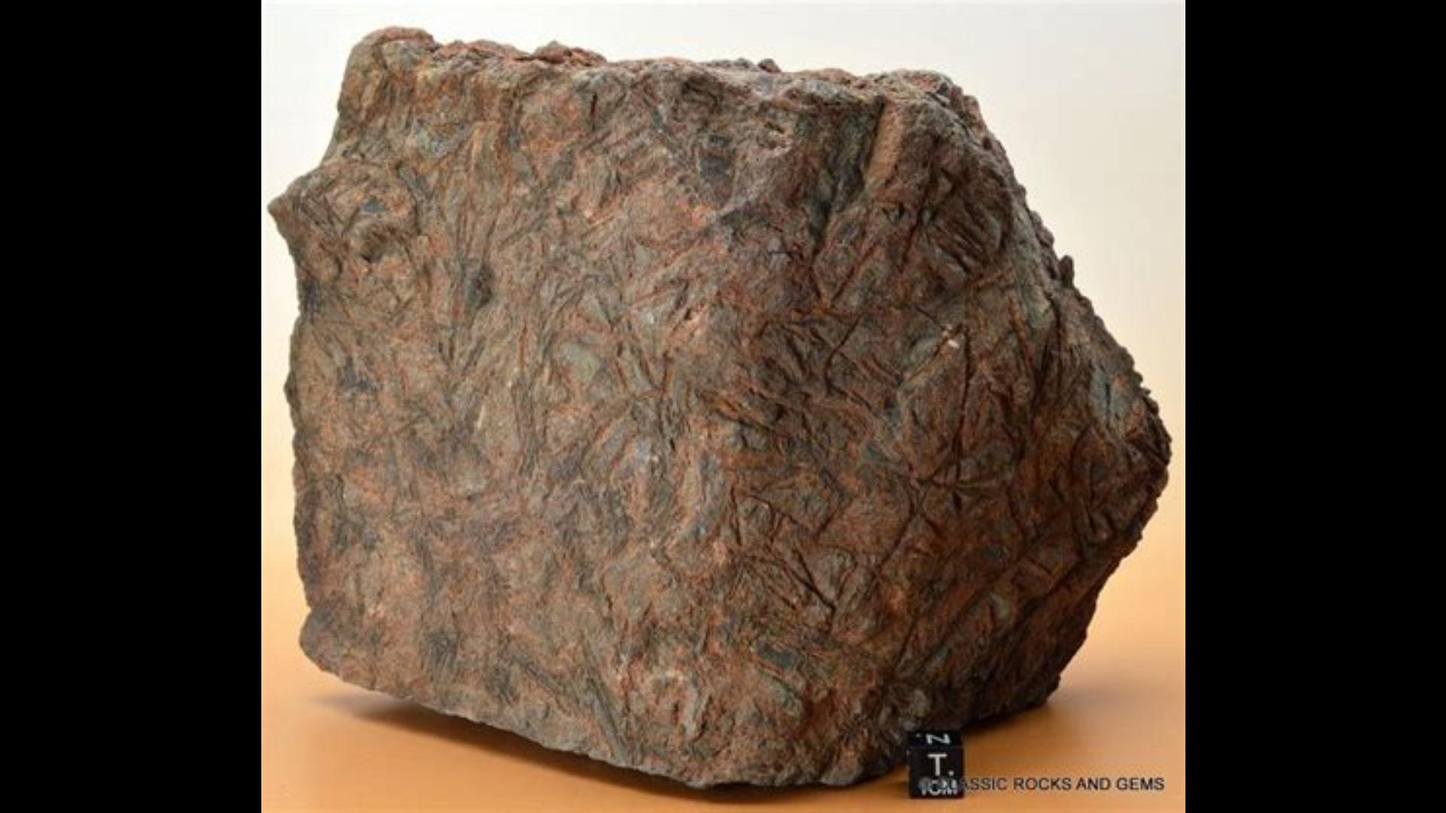rock: (268, 29, 1168, 784)
